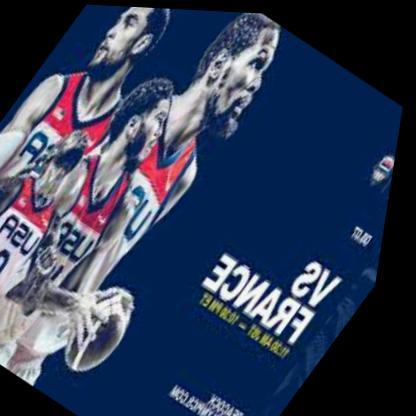basketball: (59, 281, 156, 383)
